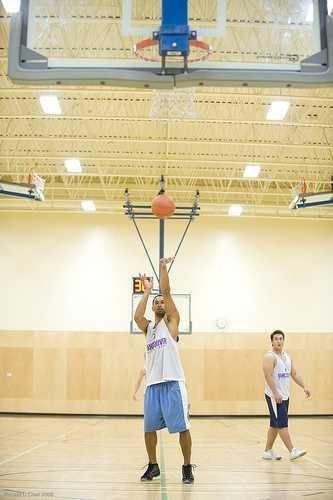ball: (150, 194, 176, 220)
human: (134, 254, 200, 486)
rim: (132, 35, 214, 124)
